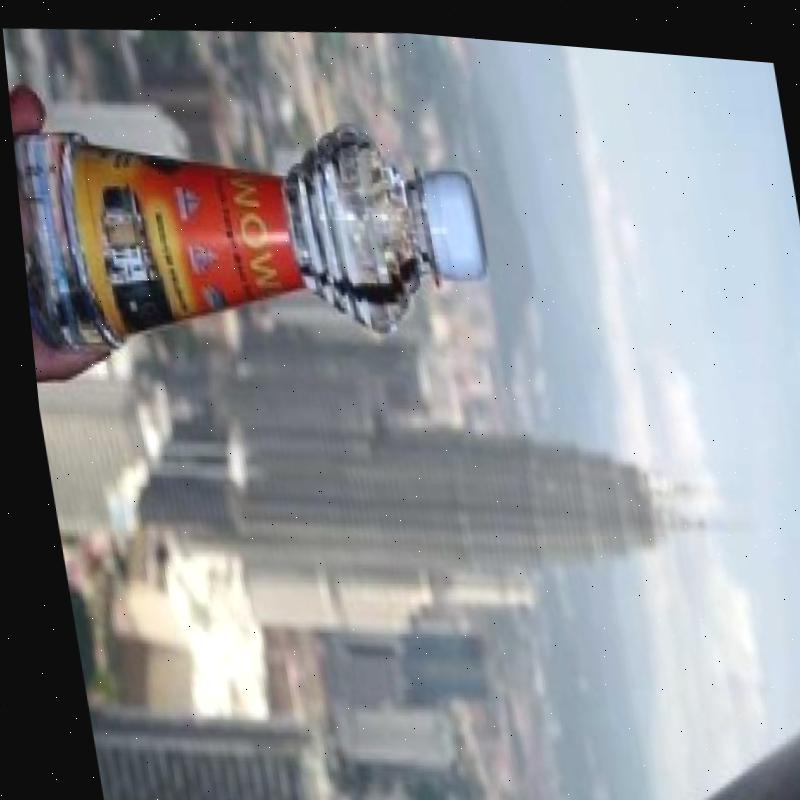botella: (7, 87, 496, 381)
